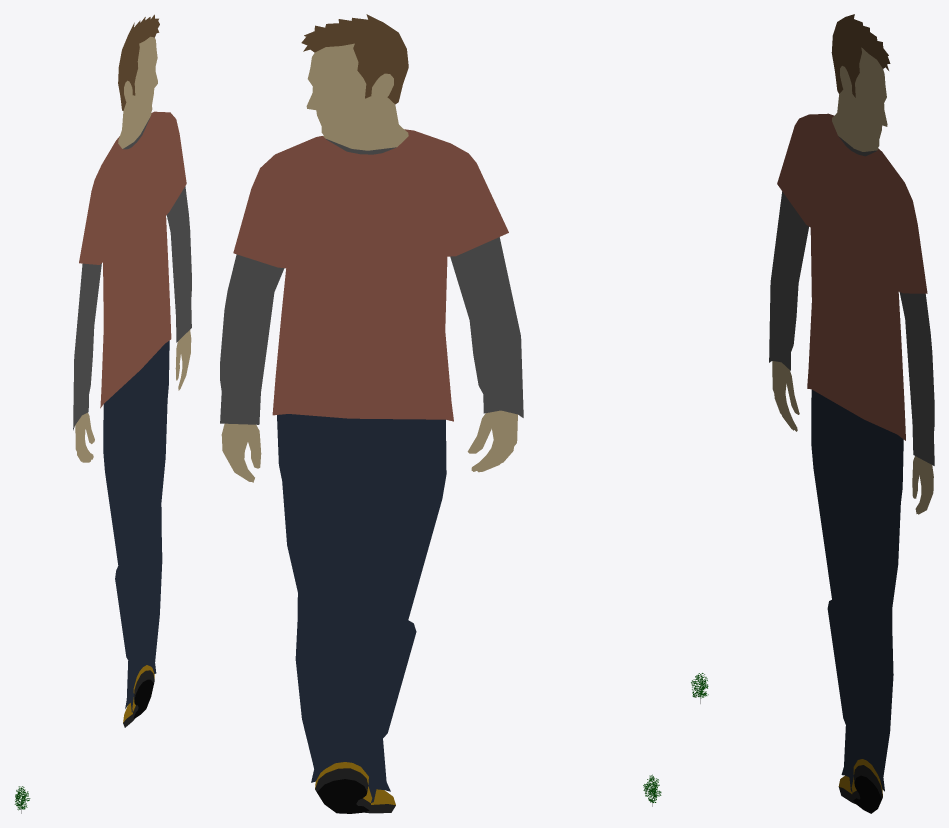
The picture shows the model from 3 angles, left to right: view 1: azimuth 30°, elevation 25°; view 2: azimuth 150°, elevation 25°; view 3: azimuth 270°, elevation 25°; orthographic projection. The views are drawn at different scales.
Parts seen in each view (by area): view 1: Bryce (×9); view 2: Bryce (×9); view 3: Bryce (×9).
Part boxes in pixels (x1=…): Bryce (×9): x1=73, y1=14, x2=191, y2=718; Bryce (×9): x1=220, y1=14, x2=523, y2=813; Bryce (×9): x1=769, y1=14, x2=934, y2=813.
Bounding box in the file's own units: 30.05 × 19.96 × 71.19.
